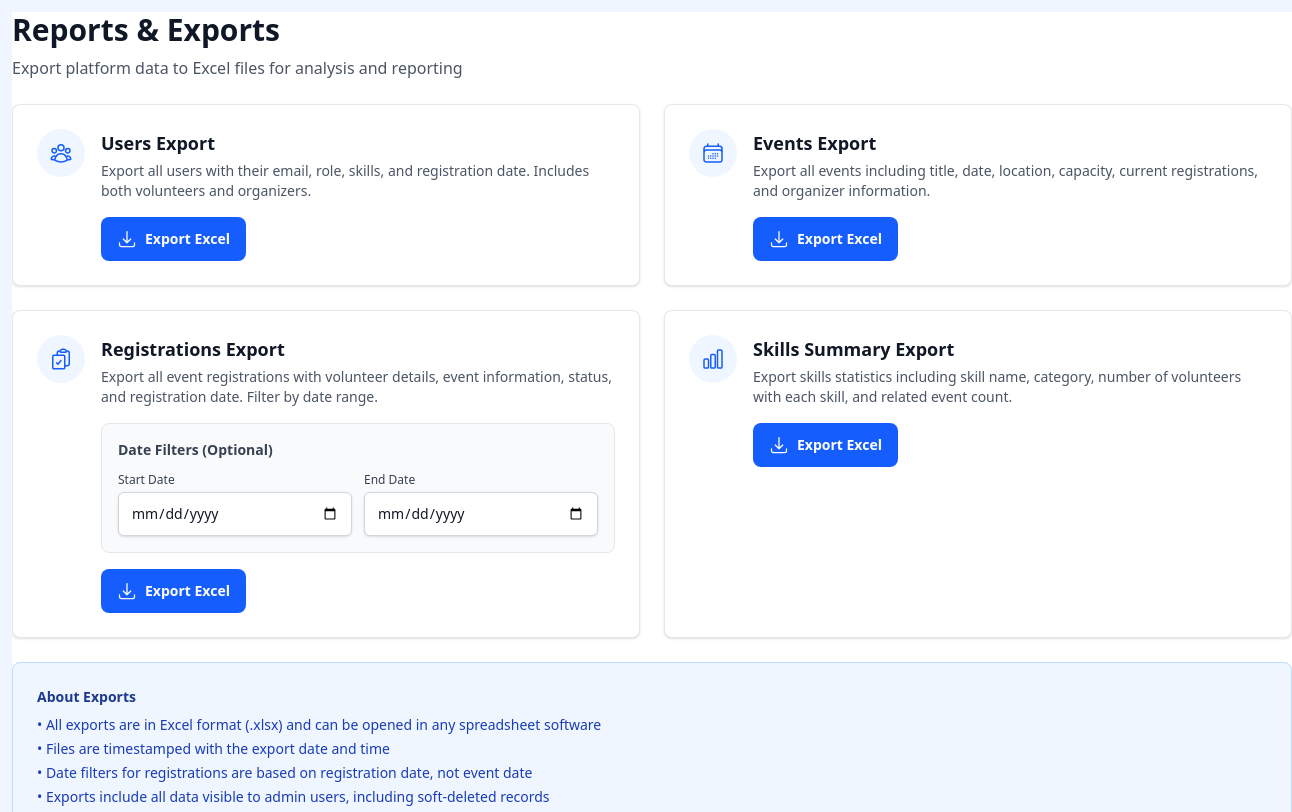
AdminReportsPage › shows error state when export fails
The width and height of the screenshot is (1292, 812).
Click the button "Export Excel" below "Users Export" at [173, 239], box [101, 217, 246, 261]
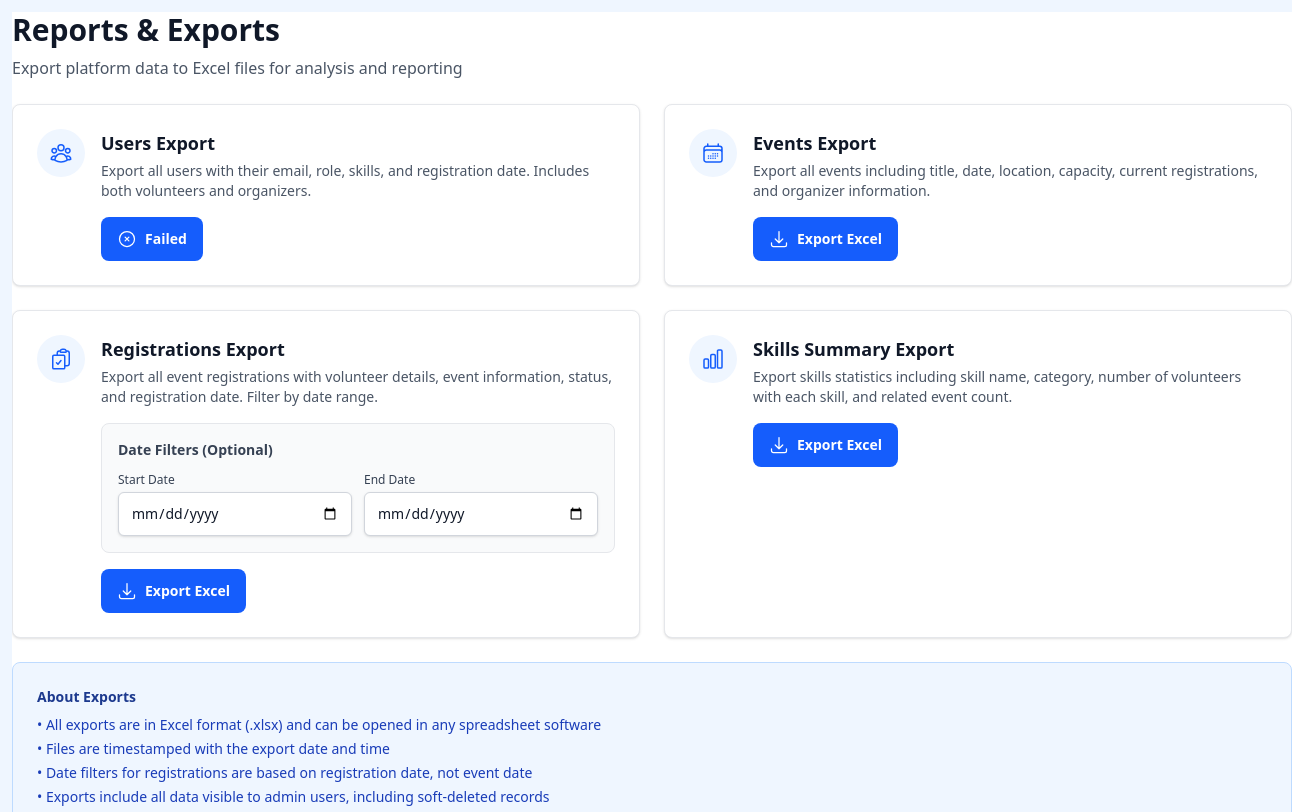
Result: the text "Failed" is shown at [145, 229, 187, 249]
